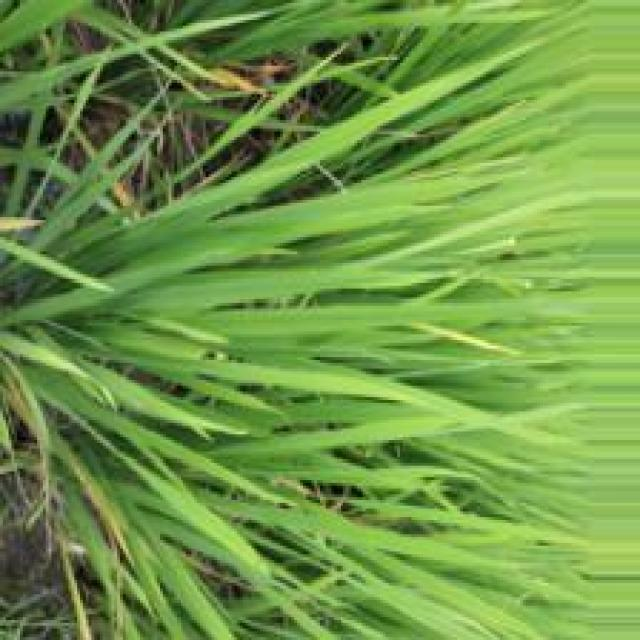HealthyLeaf: (142, 225, 227, 264), (270, 305, 368, 332), (190, 272, 254, 307)
